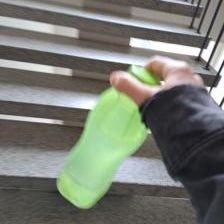bottle: (53, 65, 160, 209)
